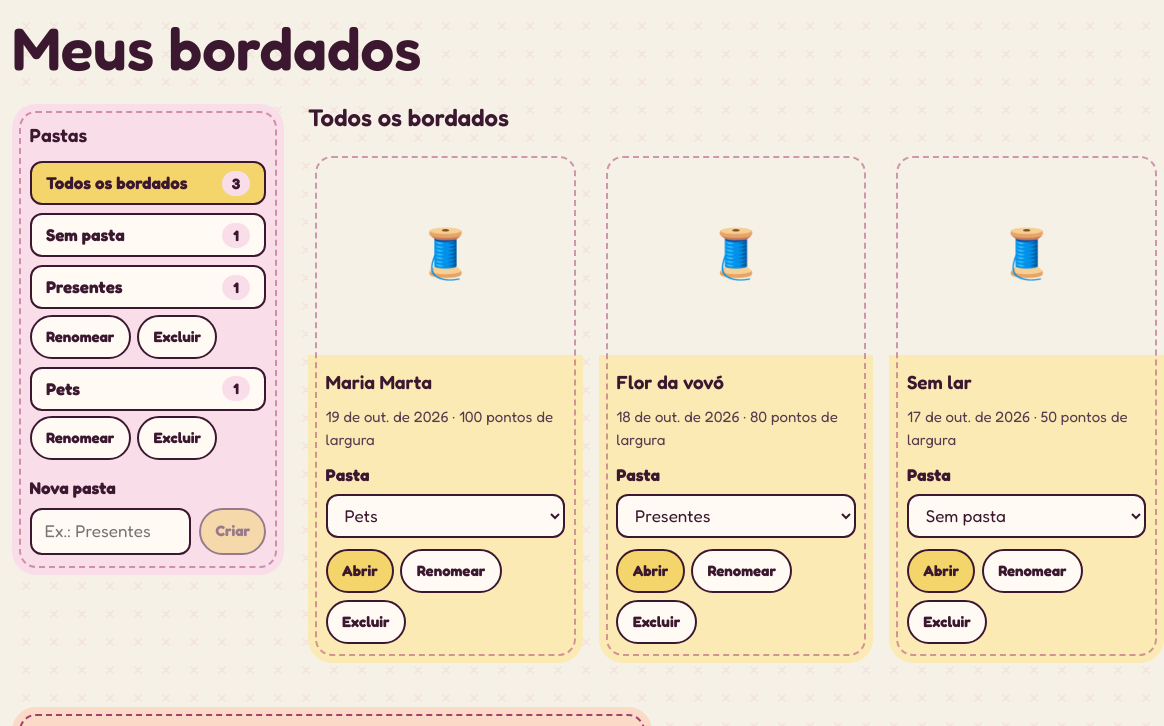
Test case: LibraryPage › creates a folder
expect the heading "Maria Marta" is shown: met, box 326,370 -> 432,393
Type "Flores" into the field labelled "Nova pasta" at (110, 531), box 30,508 -> 191,555
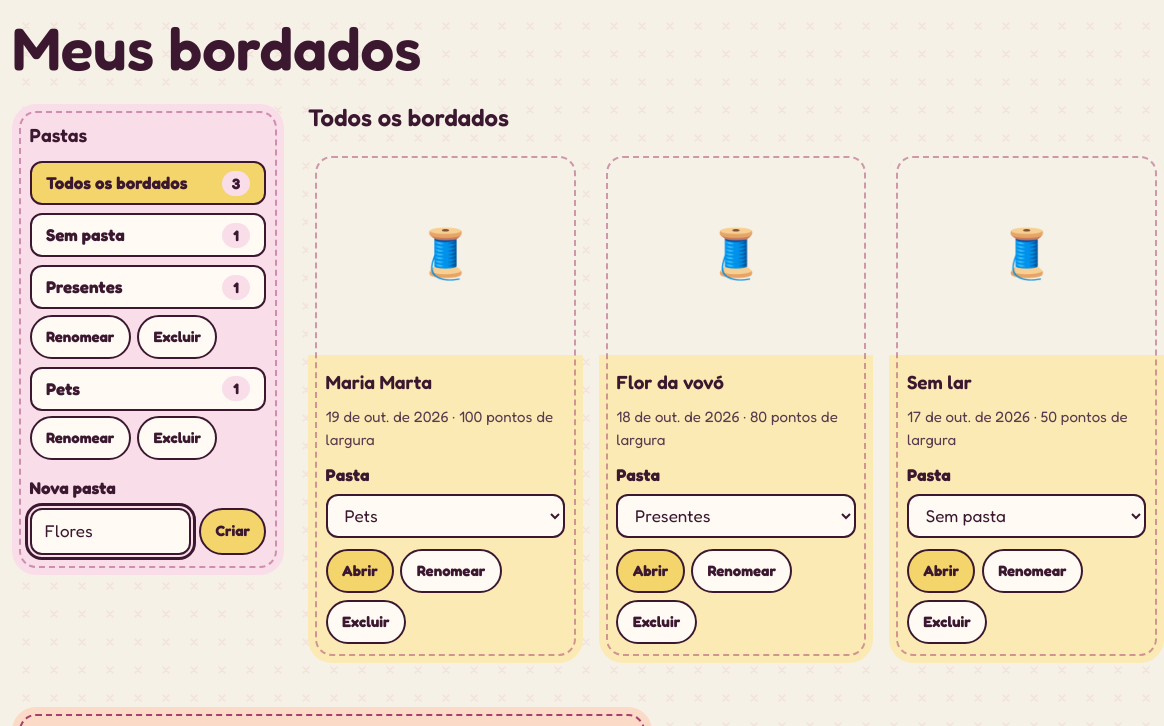
Click the button "Criar" at (233, 531), box 199,508 -> 266,555
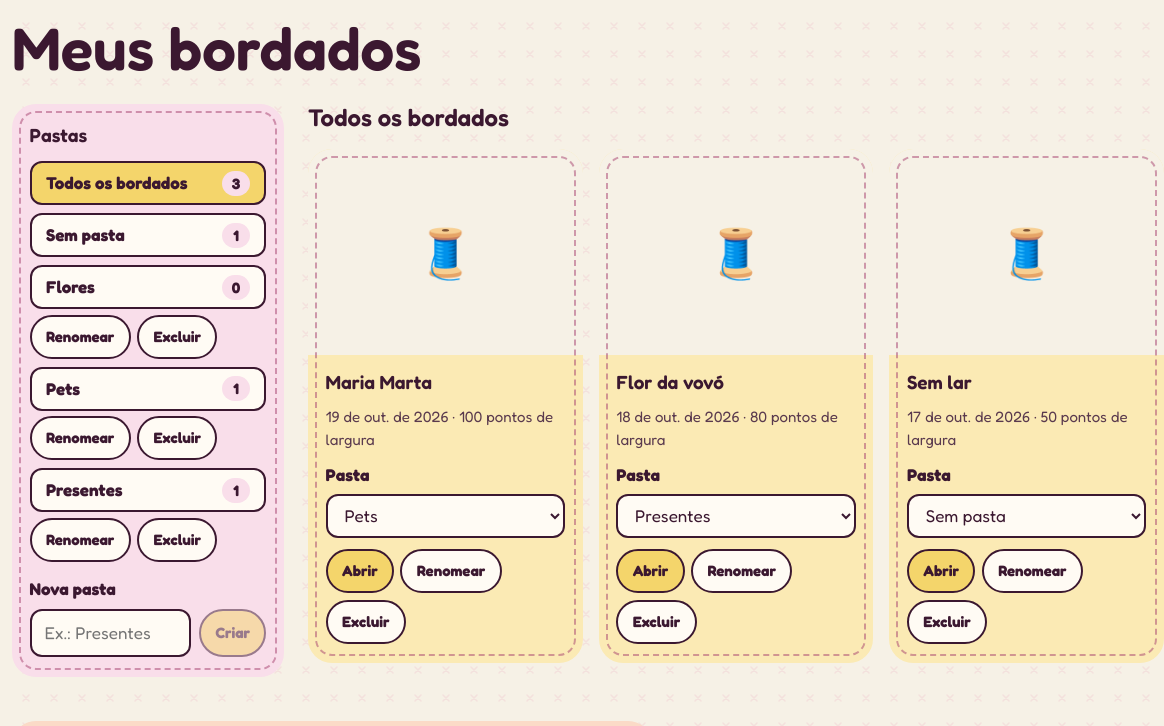
expect the button "Flores 0" is shown: met, box 30,265 -> 266,309
